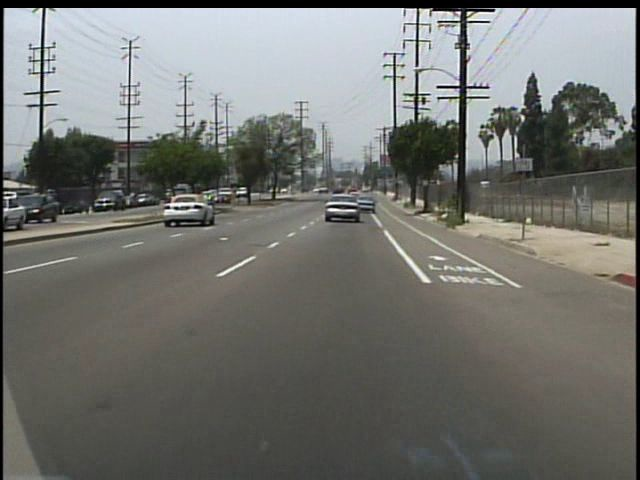person: (127, 188, 138, 209)
